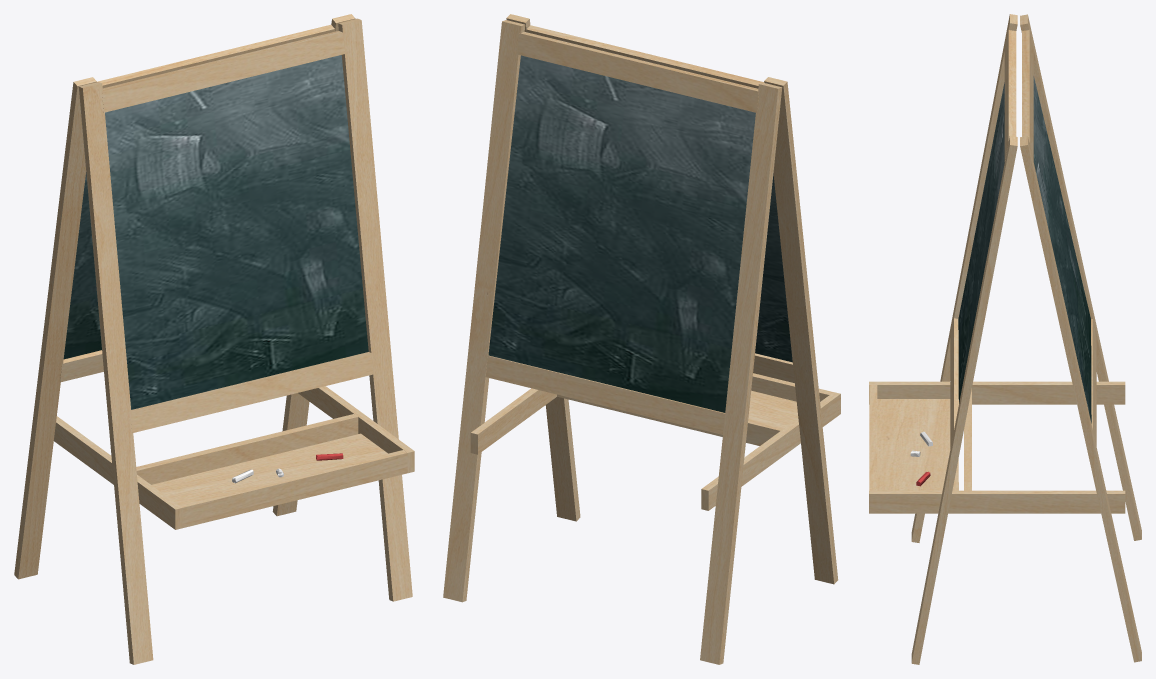
The model's file is blackboard.FBX.
The picture shows the model from 3 angles, left to right: view 1: azimuth 30°, elevation 25°; view 2: azimuth 150°, elevation 25°; view 3: azimuth 270°, elevation 25°; orthographic projection. The views are drawn at different scales.
Visible parts, largest first — view 1: blackboard; view 2: blackboard; view 3: blackboard.
Boxes of the visible parts, bbox=[...] form: blackboard: bbox=[14, 14, 414, 664]; blackboard: bbox=[443, 14, 840, 664]; blackboard: bbox=[869, 14, 1141, 664].
Size of the model in its own units: 54.91 by 102 by 48.36.
Materials: 1 (1 with a texture image).
